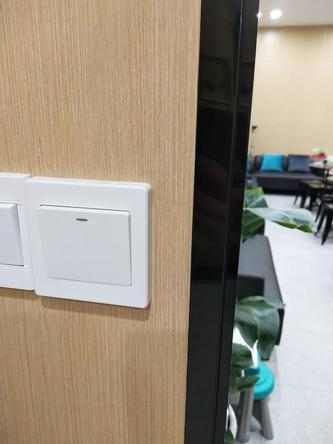switch: (28, 207, 132, 282)
